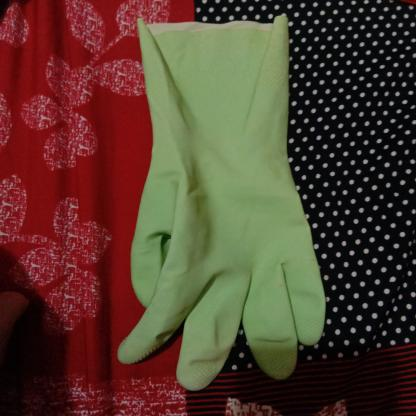gloved_hand: (110, 12, 332, 393)
